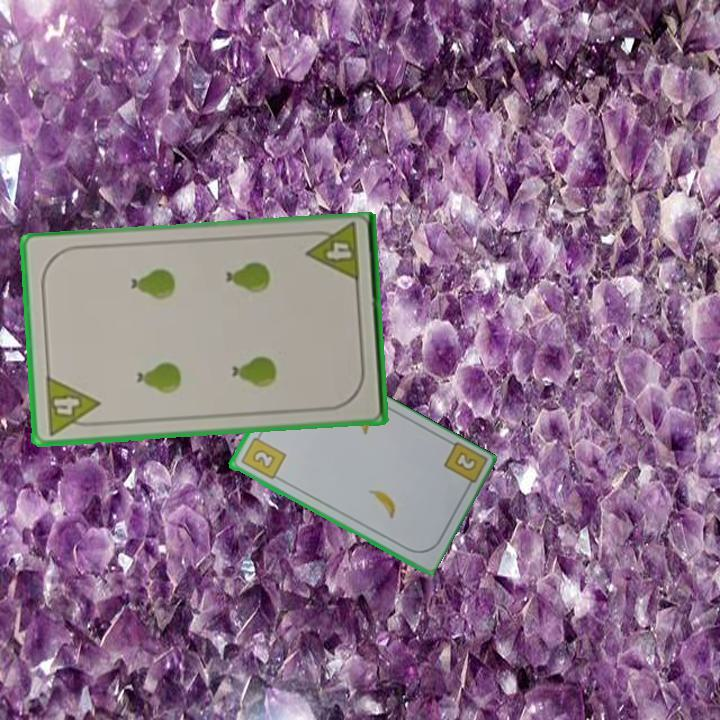2b: (237, 429, 288, 483), (451, 448, 480, 474)
4p: (42, 373, 103, 438), (302, 221, 363, 286)
